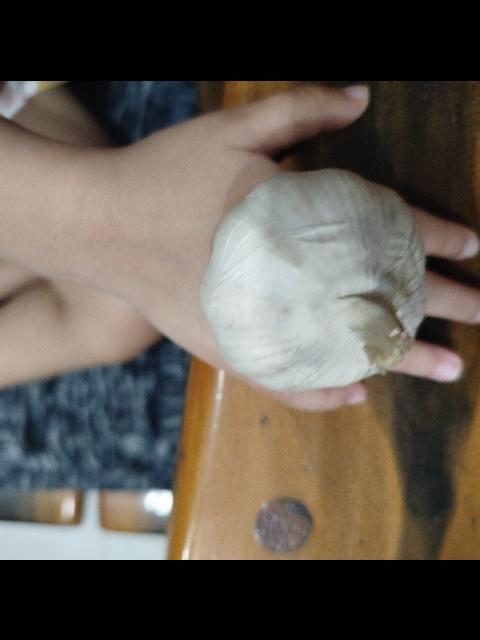garlic: (201, 126, 445, 432)
